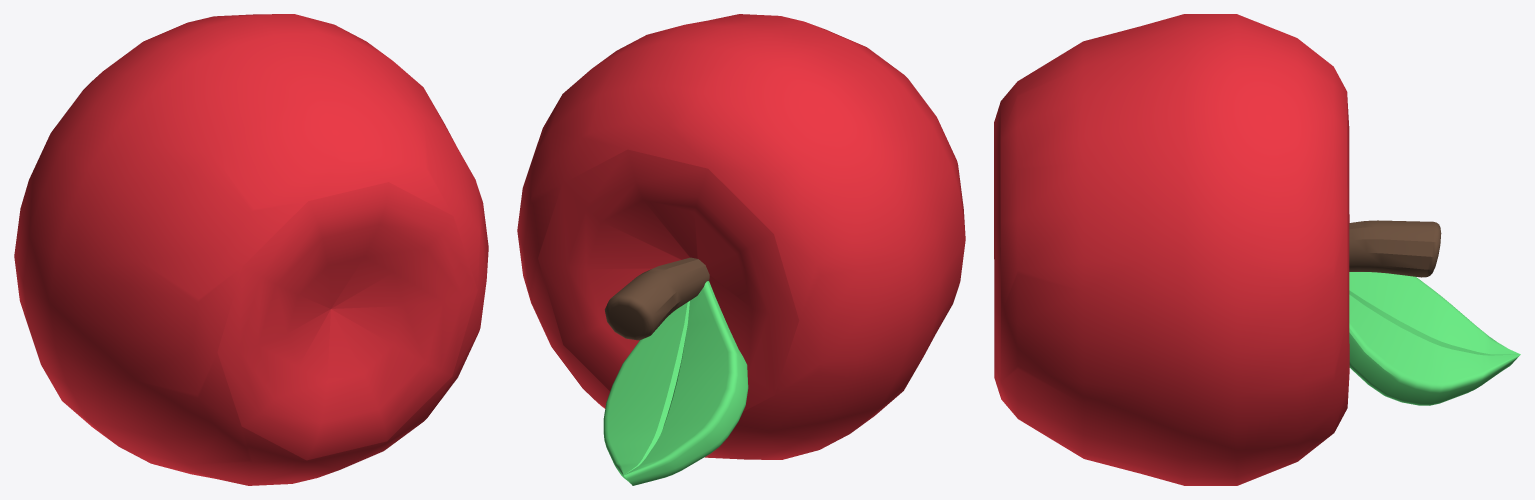
The model's file is apple.fbx.
The picture shows the model from 3 angles, left to right: view 1: azimuth 30°, elevation 25°; view 2: azimuth 150°, elevation 25°; view 3: azimuth 270°, elevation 25°; orthographic projection. The views are drawn at different scales.
Parts seen in each view (by area): view 1: Apple; view 2: Apple; view 3: Apple.
Boxes of the visible parts, left/top/right/bottom form: Apple: left=14, top=14, right=488, bottom=485; Apple: left=517, top=14, right=965, bottom=485; Apple: left=994, top=14, right=1520, bottom=485.
Size of the model in its own units: 164 by 162 by 181.
